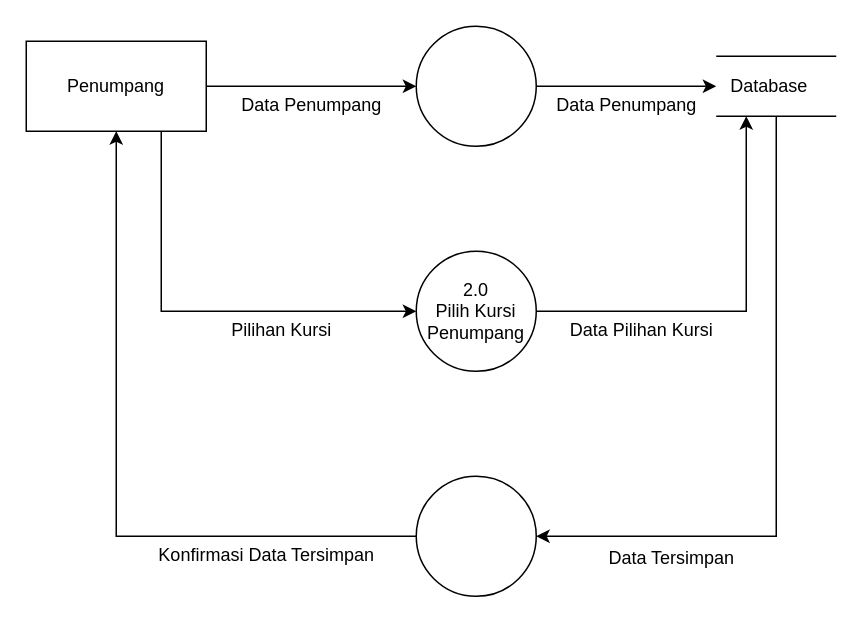
This 864x623 diagram has some shape labels left out. The centre of each missing label's shape, as x and y in pixels:
1.0 Input Data Penumpang: [475,85]
3.0 Simpan Data: [475,535]
